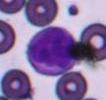M: (26, 26, 78, 76)
